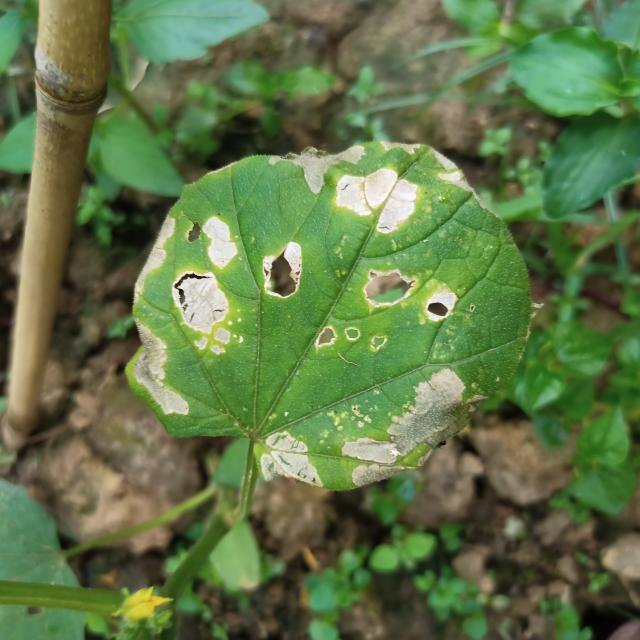disease_cucumber: (251, 236, 486, 494), (129, 207, 312, 422), (264, 138, 521, 238)
